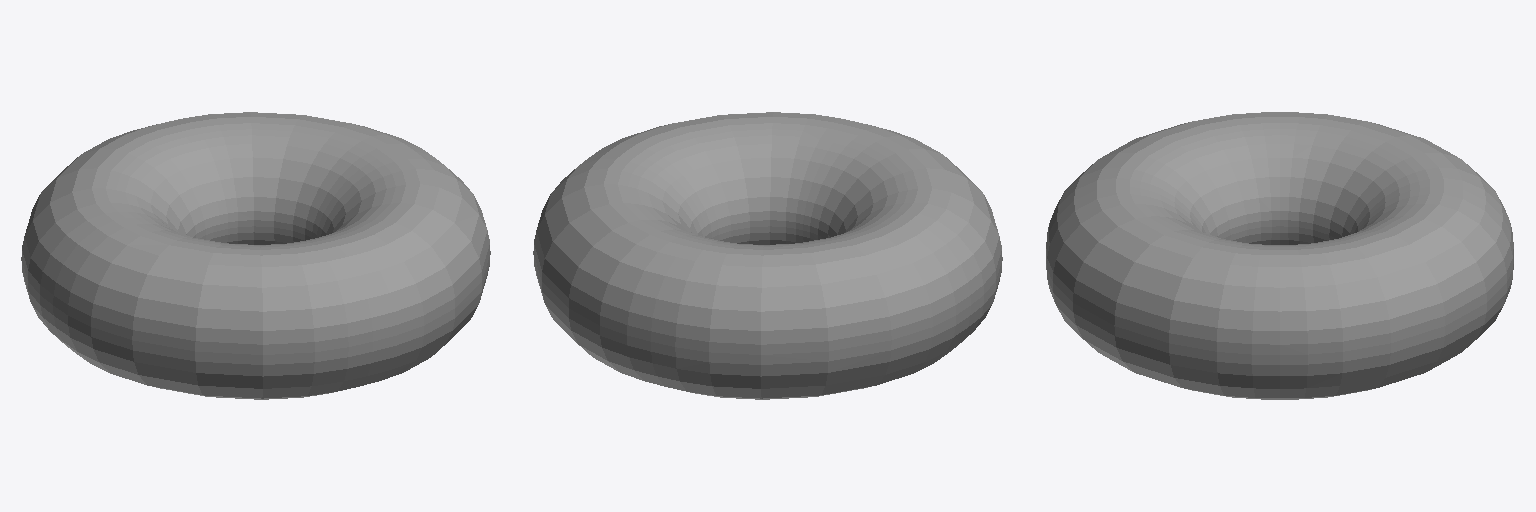
The model's file is food3.obj.
The picture shows the model from 3 angles: view 1: azimuth 30°, elevation 25°; view 2: azimuth 150°, elevation 25°; view 3: azimuth 270°, elevation 25°; orthographic projection.
Visible parts, largest first — view 1: donut_model_Mesh; view 2: donut_model_Mesh; view 3: donut_model_Mesh.
Part boxes in pixels (x1,y1,x2,y2): donut_model_Mesh: (21, 112, 490, 399); donut_model_Mesh: (533, 112, 1002, 399); donut_model_Mesh: (1046, 112, 1513, 399).
Size of the model in its own units: 0.0591 by 0.0195 by 0.0591.